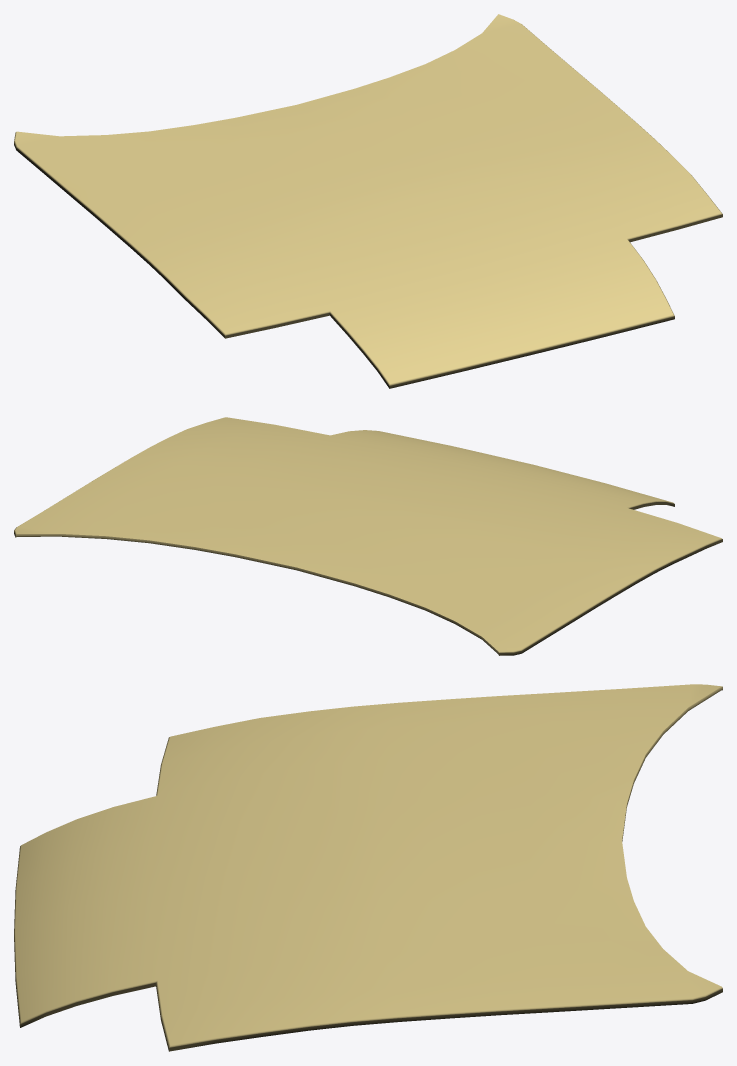
Rendered from MX5_Hood01_Duco.fbx.
3 views of the same model, one above another, from view 1: azimuth 30°, elevation 25°; view 2: azimuth 150°, elevation 25°; view 3: azimuth 270°, elevation 25° (orthographic). The views are drawn at different scales.
Parts seen in each view (by area): view 1: MX5_Hood01_Duco; view 2: MX5_Hood01_Duco; view 3: MX5_Hood01_Duco.
Boxes of the visible parts, x1,y1,x2,y2 form: MX5_Hood01_Duco: [14, 14, 722, 388]; MX5_Hood01_Duco: [14, 417, 722, 655]; MX5_Hood01_Duco: [14, 684, 722, 1051].
Size of the model in its own units: 130 by 19.71 by 123.
